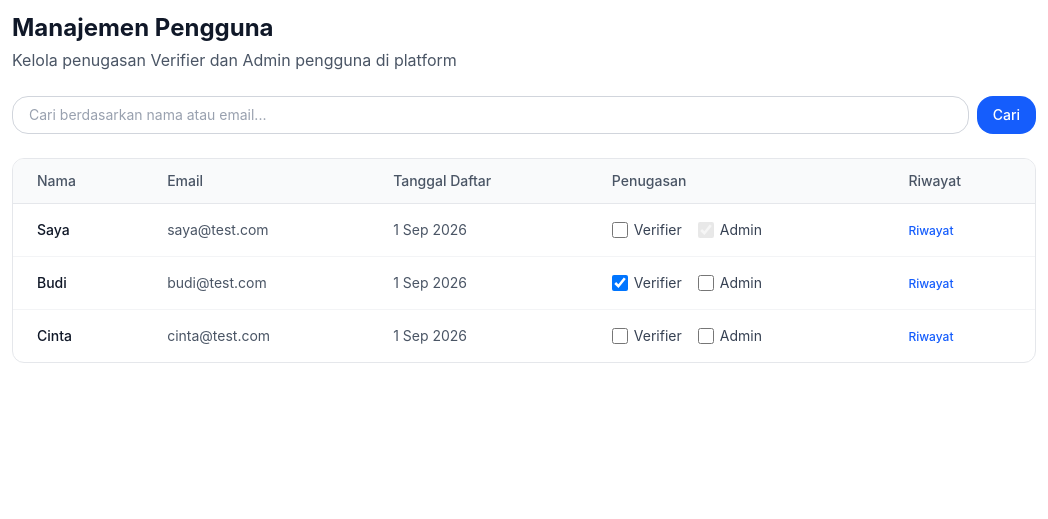
AdminUsersPage › proposes an ADMIN grant instead of granting it outright, and shows it pending
Click the checkbox labelled "Admin" in the row of "cinta@test.com".
click(706, 336)  # box x1=698 y1=328 x2=714 y2=344
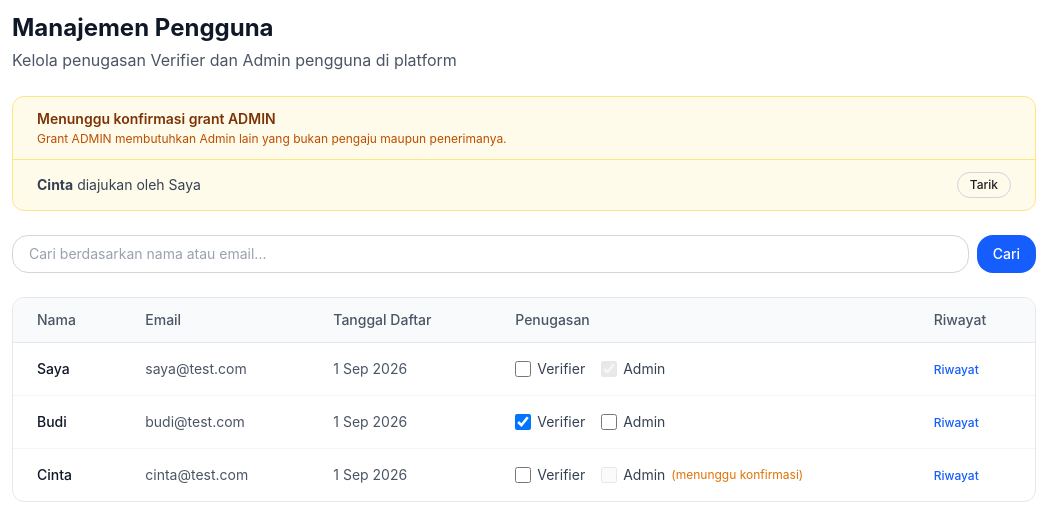
Expected: the text "(menunggu konfirmasi)" is shown, x1=671 y1=467 x2=803 y2=483
